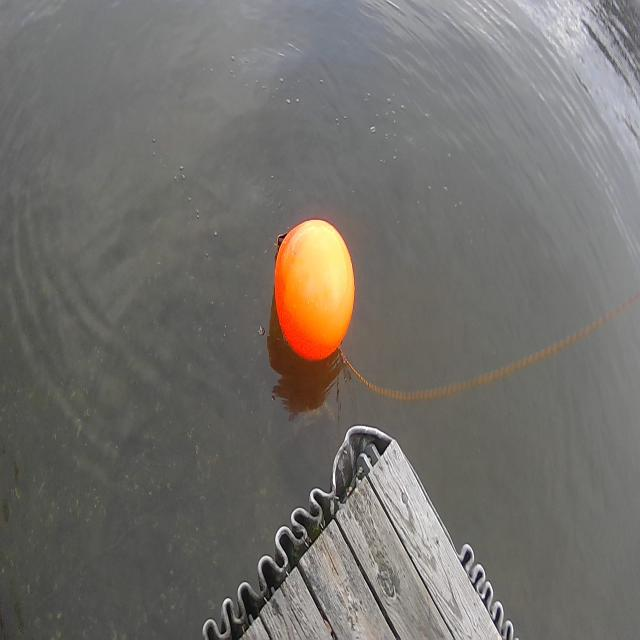Buoy: (267, 199, 362, 384)
